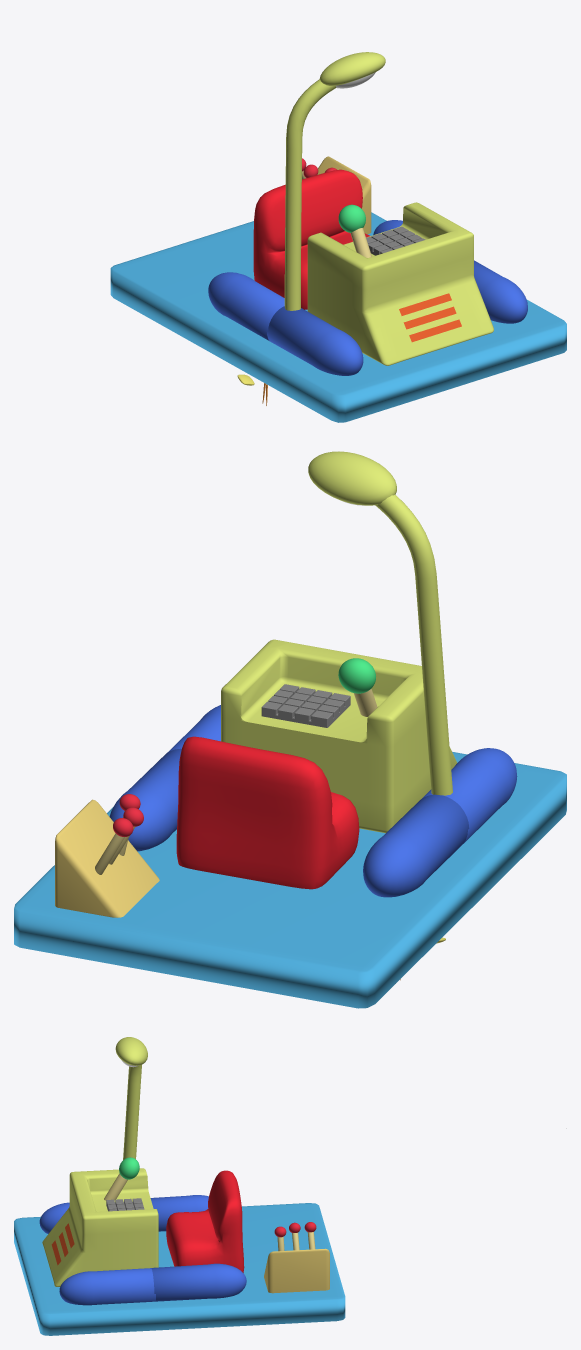
The model's file is time-machine.glb.
3 views of the same model, one above another, from view 1: azimuth 30°, elevation 25°; view 2: azimuth 150°, elevation 25°; view 3: azimuth 270°, elevation 25° (orthographic). The views are drawn at different scales.
Visible parts, largest first — view 1: Cube_37, Cube.012_38, Sphere.132_44, Cube.025_45, BezierCurve.014_57, Sphere.133_43, Sphere.138_58, Cube.024_42, Cube.028_51, Sphere.134_48; view 2: Cube_37, Cube.012_38, Cube.025_45, Sphere.132_44, Cube.028_51, BezierCurve.014_57, Sphere.133_43, Sphere.138_58, Cube.024_42, Sphere.134_48; view 3: Cube_37, Cube.012_38, Sphere.133_43, Cube.025_45, Cube.028_51, Sphere.132_44, BezierCurve.014_57, Sphere.138_58, Cube.024_42.
Boxes of the visible parts, x1,y1,x2,y2 form: Cube_37: (110, 212, 566, 422); Cube.012_38: (307, 202, 493, 365); Sphere.132_44: (208, 272, 363, 375); Cube.025_45: (253, 169, 370, 309); BezierCurve.014_57: (284, 79, 336, 310); Sphere.133_43: (373, 220, 527, 323); Sphere.138_58: (319, 52, 385, 88); Cube.024_42: (366, 226, 425, 255); Cube.028_51: (317, 156, 371, 234); Sphere.134_48: (338, 204, 365, 232); Cube_37: (14, 751, 566, 1008); Cube.012_38: (221, 639, 456, 833); Cube.025_45: (176, 736, 359, 889); Sphere.132_44: (363, 748, 517, 897); Cube.028_51: (55, 799, 159, 917); BezierCurve.014_57: (375, 494, 452, 795); Sphere.133_43: (109, 705, 220, 851); Sphere.138_58: (308, 451, 396, 505); Cube.024_42: (261, 684, 350, 727); Sphere.134_48: (338, 658, 375, 693); Cube_37: (14, 1203, 345, 1335); Cube.012_38: (42, 1168, 158, 1286); Sphere.133_43: (59, 1263, 246, 1305); Cube.025_45: (166, 1170, 244, 1272); Cube.028_51: (264, 1248, 329, 1293); Sphere.132_44: (39, 1195, 208, 1233); BezierCurve.014_57: (123, 1065, 141, 1159); Sphere.138_58: (115, 1037, 147, 1067); Cube.024_42: (106, 1198, 144, 1211).
Size of the model in its own units: 6.88 by 8.1 by 14.37.
